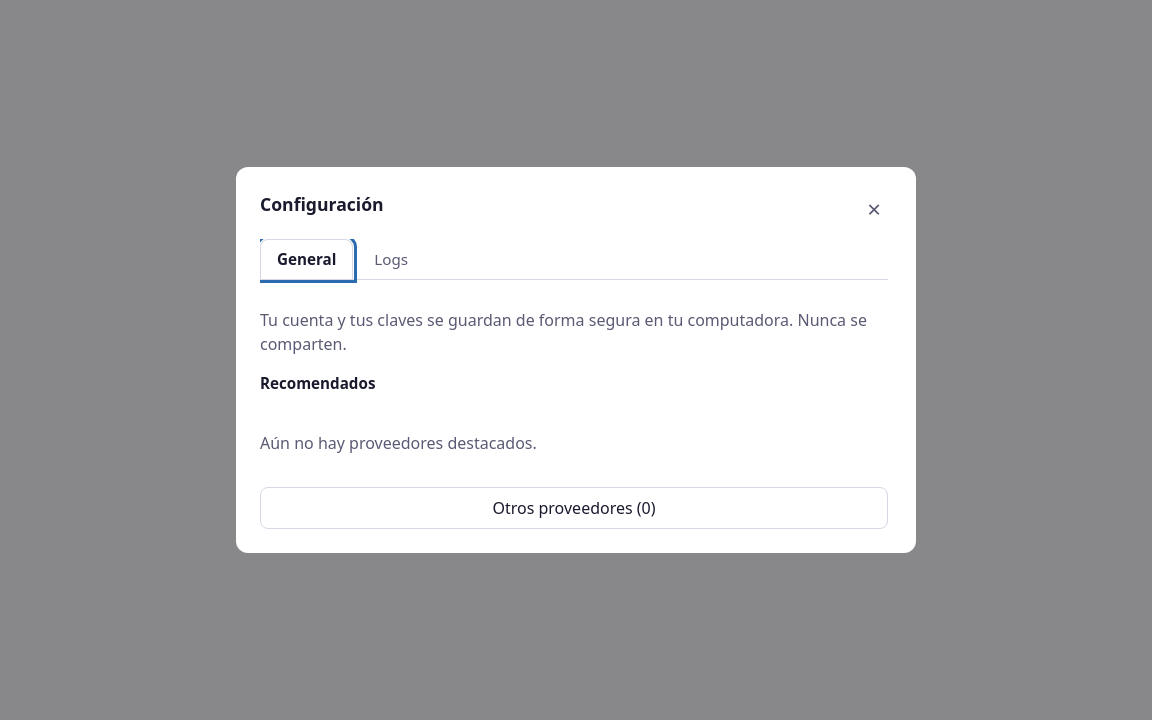
Scenario: ProviderPanel › keeps conversation usage and Knowledge metrics out of Configuración
Check: the dialog "Configuración" is shown, box [236, 167, 916, 553]
Click the tab "Logs" at x=391, y=259, box [357, 239, 425, 279]
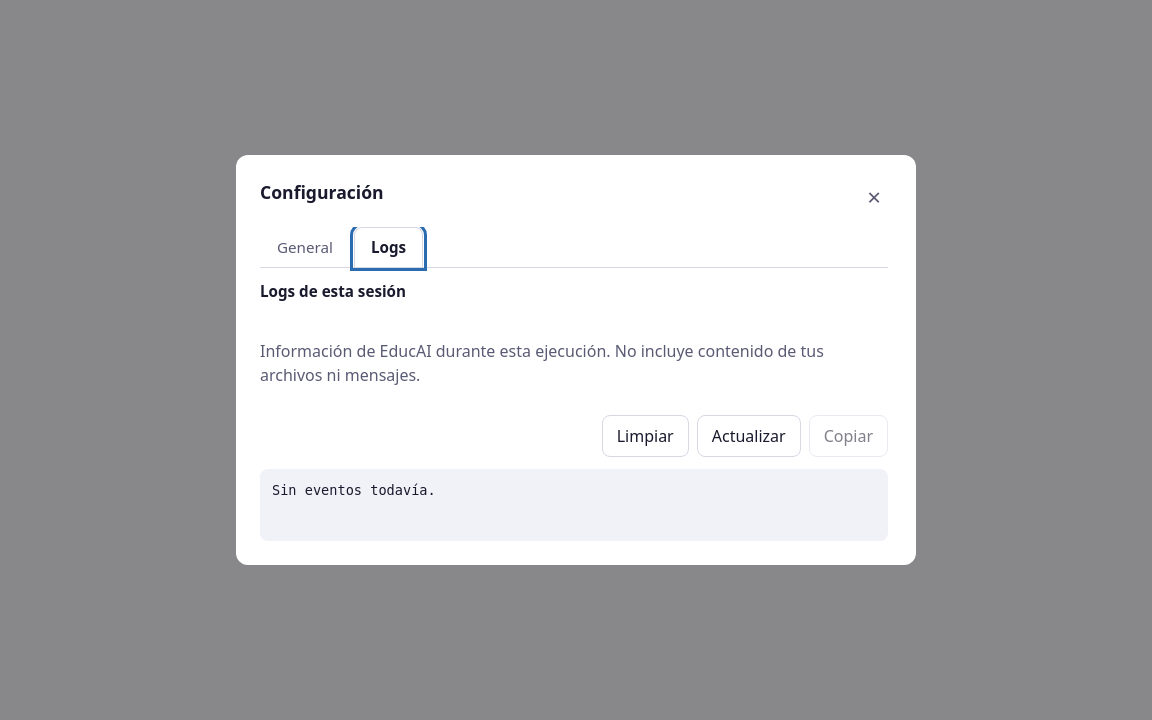
Check: the text "Sin eventos todavía." is shown, box [260, 469, 888, 541]
